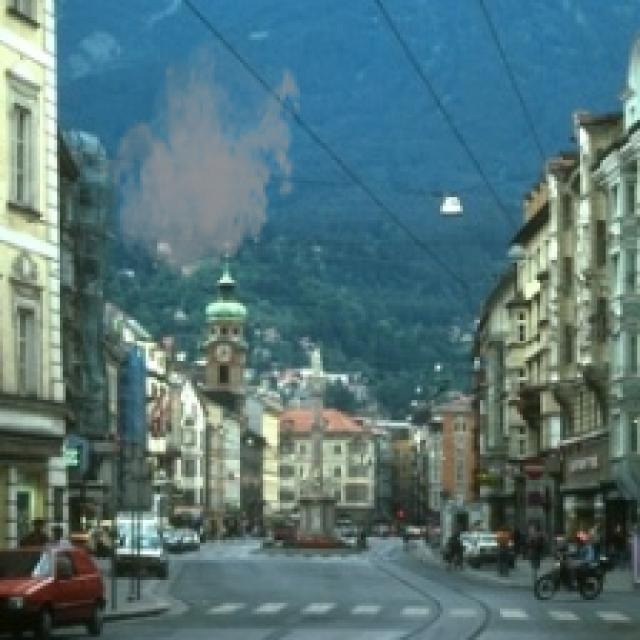smoke: (97, 32, 306, 288)
